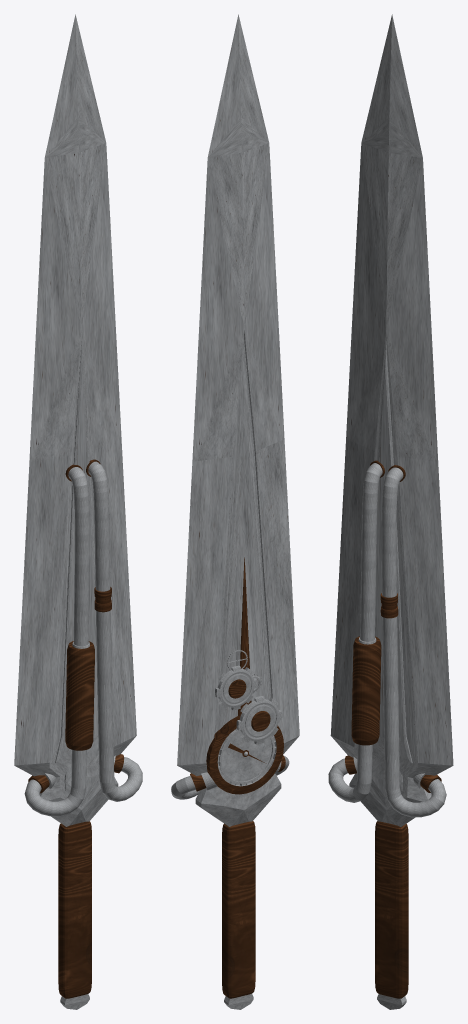
The model's file is greatsword.fbx.
The picture shows the model from 3 angles, left to right: view 1: azimuth 30°, elevation 25°; view 2: azimuth 210°, elevation 25°; view 3: azimuth 330°, elevation 25°; orthographic projection.
Parts seen in each view (by area): view 1: Cylinder.027, Cube.013, Cylinder.038, Cylinder.001; view 2: Cylinder.027, Cube.013, Cylinder.029, Cylinder.026, Cylinder.023, Cube.011, Cylinder.028; view 3: Cylinder.027, Cube.013, Cylinder.038, Cylinder.001.
Boxes of the visible parts, x1,y1,x2,y2 form: Cylinder.027: [14, 14, 142, 1009]; Cube.013: [58, 821, 91, 998]; Cylinder.038: [65, 641, 94, 750]; Cylinder.001: [94, 587, 111, 612]; Cylinder.027: [171, 14, 299, 1009]; Cube.013: [222, 821, 255, 998]; Cylinder.029: [206, 716, 283, 794]; Cylinder.026: [236, 696, 282, 744]; Cylinder.023: [215, 665, 257, 710]; Cube.011: [238, 557, 251, 716]; Cylinder.028: [251, 711, 270, 731]; Cylinder.027: [328, 14, 453, 1009]; Cube.013: [375, 821, 408, 998]; Cylinder.038: [351, 636, 381, 745]; Cylinder.001: [380, 593, 398, 618].
Size of the model in its own units: 227 by 1759 by 112.
